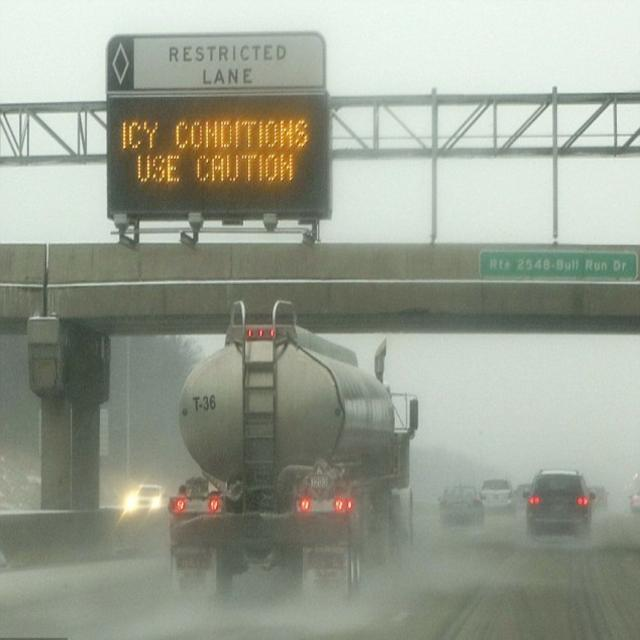bus: (170, 303, 418, 606)
car: (522, 470, 598, 538), (440, 484, 484, 530), (480, 477, 513, 511), (128, 482, 164, 512), (588, 481, 608, 509)
